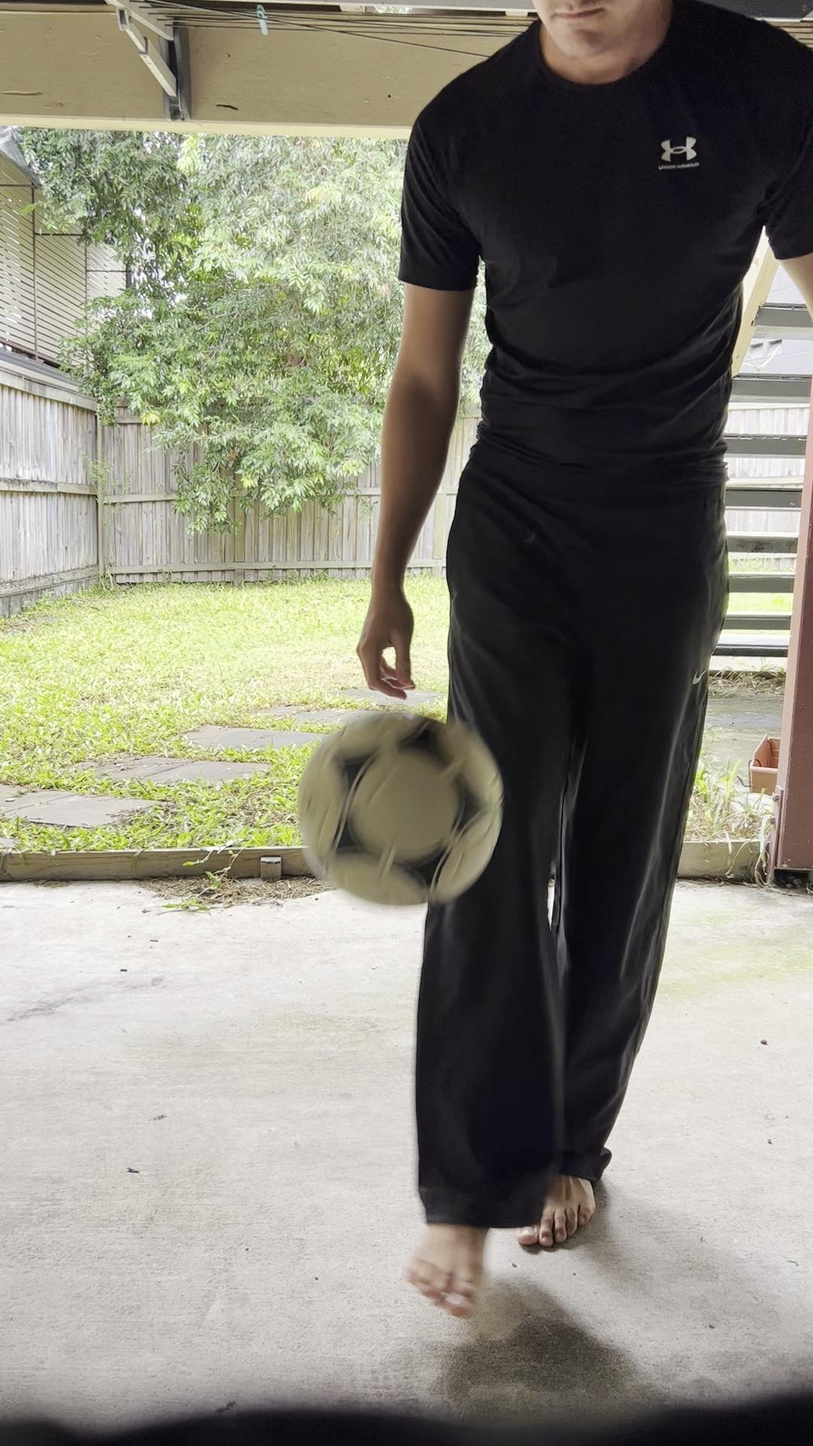ball: (297, 708, 506, 908)
foot: (406, 1219, 489, 1317), (521, 1164, 594, 1248)
person: (355, 0, 813, 1318)
